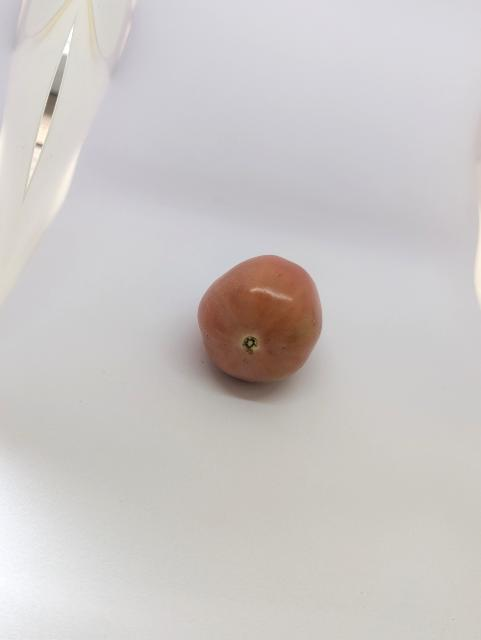turning: (191, 253, 335, 395)
